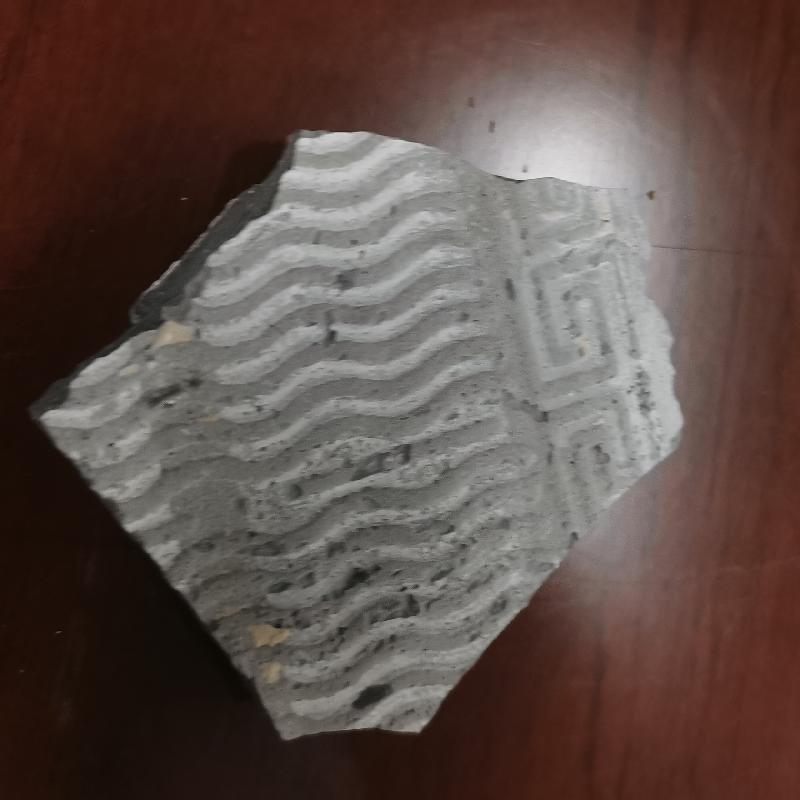tile: (21, 126, 693, 749)
